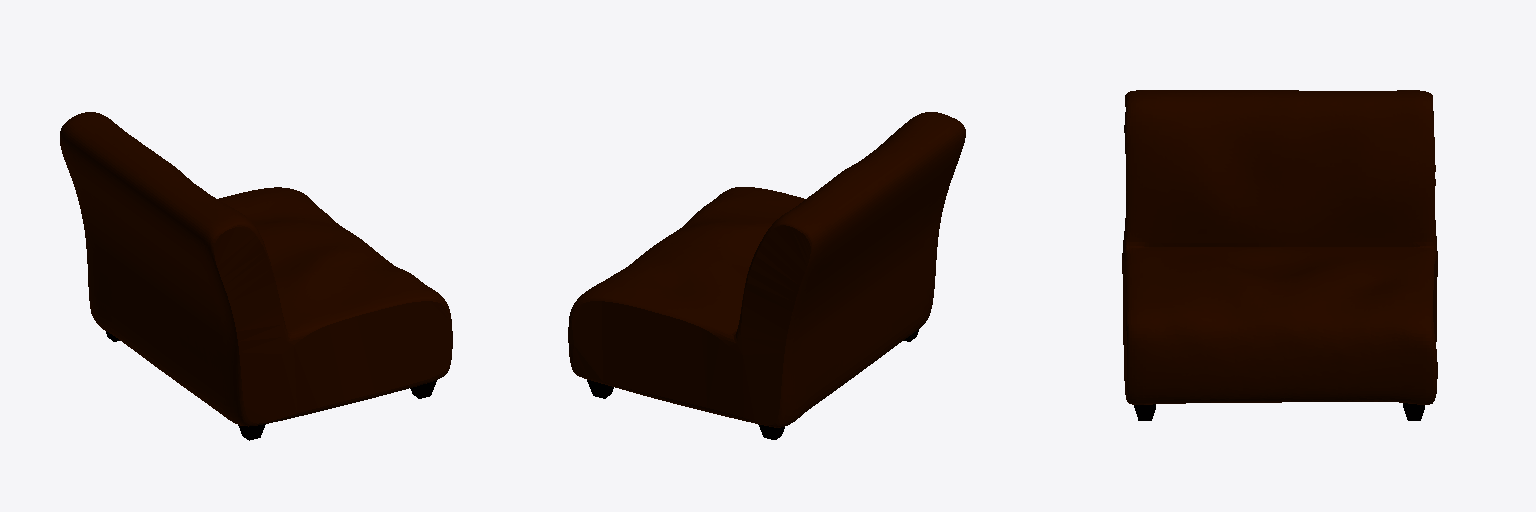
File: couch.obj
3 renders of one model, left to right at view 1: azimuth 30°, elevation 25°; view 2: azimuth 150°, elevation 25°; view 3: azimuth 270°, elevation 25°, orthographic.
Parts seen in each view (by area): view 1: couch_Material.004; view 2: couch_Material.004; view 3: couch_Material.004.
Boxes of the visible parts, x1,y1,x2,y2 form: couch_Material.004: [60, 112, 452, 440]; couch_Material.004: [568, 112, 965, 439]; couch_Material.004: [1122, 90, 1437, 420].
Bounding box in the file's own units: 18.15 × 15.98 × 20.06.